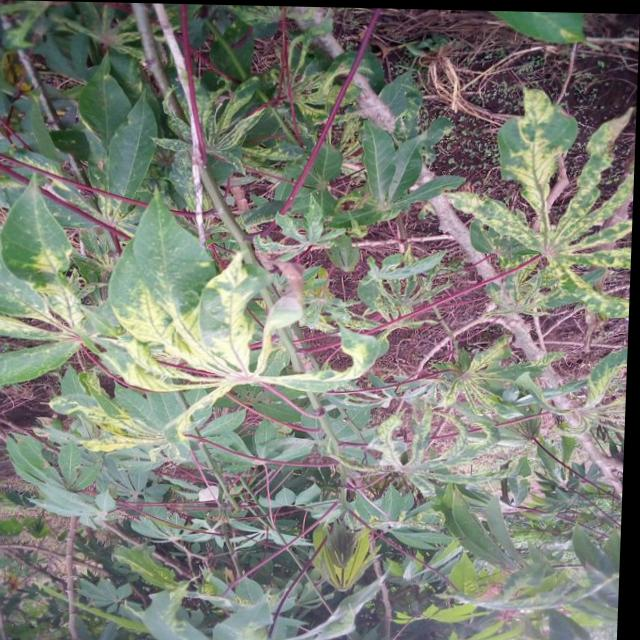Mosaico: (504, 80, 640, 316), (111, 296, 360, 403), (44, 381, 204, 461), (4, 216, 93, 353), (266, 42, 370, 131), (427, 337, 543, 416), (190, 78, 285, 163), (304, 496, 365, 577)
